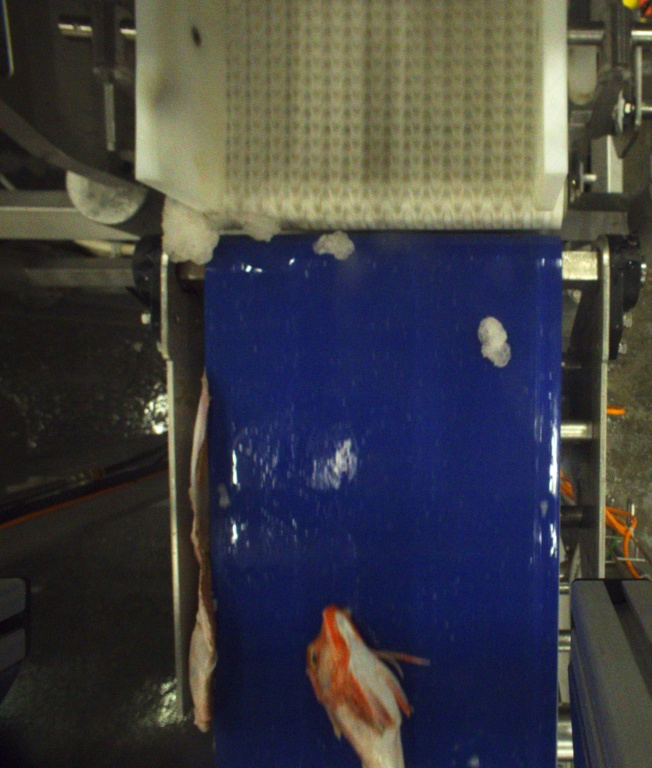GUU: (302, 604, 427, 768)
